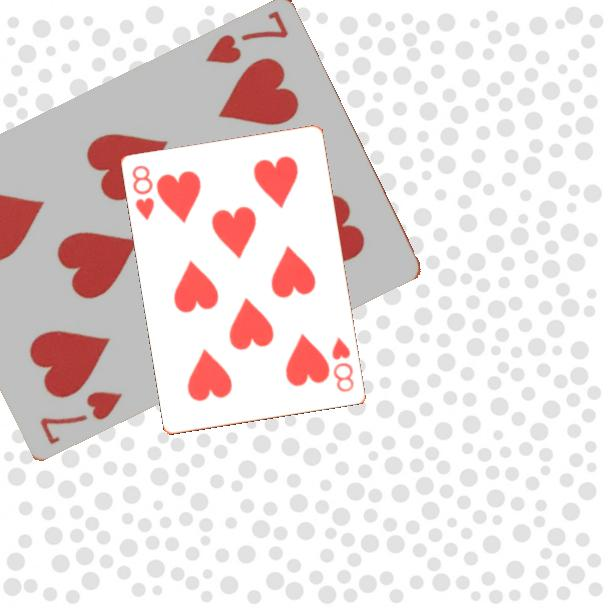h07: (36, 388, 126, 449), (201, 8, 292, 68)
h08: (129, 162, 158, 224), (328, 334, 357, 395)
